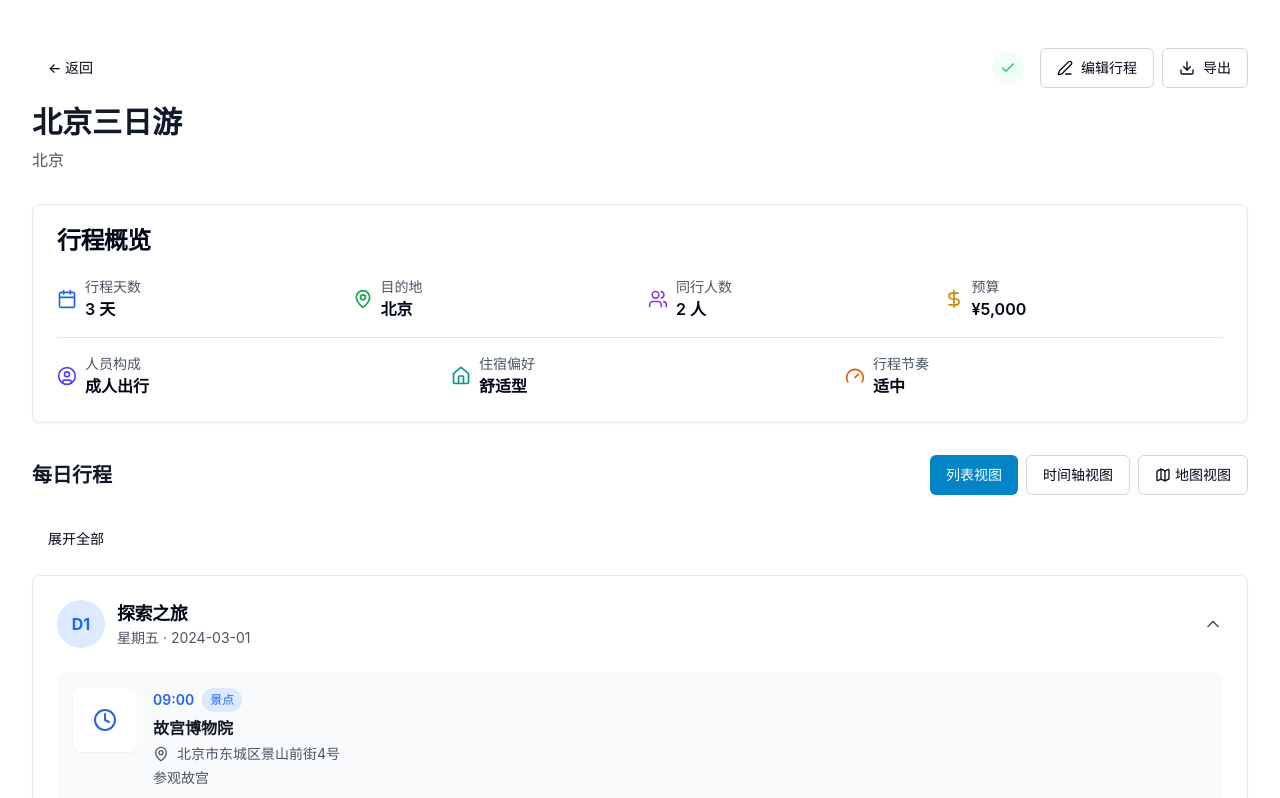
Test: ItineraryDetail 集成测试 › 端到端流程测试 › 应该正确显示行程项
Expected: the heading "探索之旅" is shown, [117,603,187,624]
Step 1. Click the text "探索之旅" → (81, 624), box [57,600,1223,648]
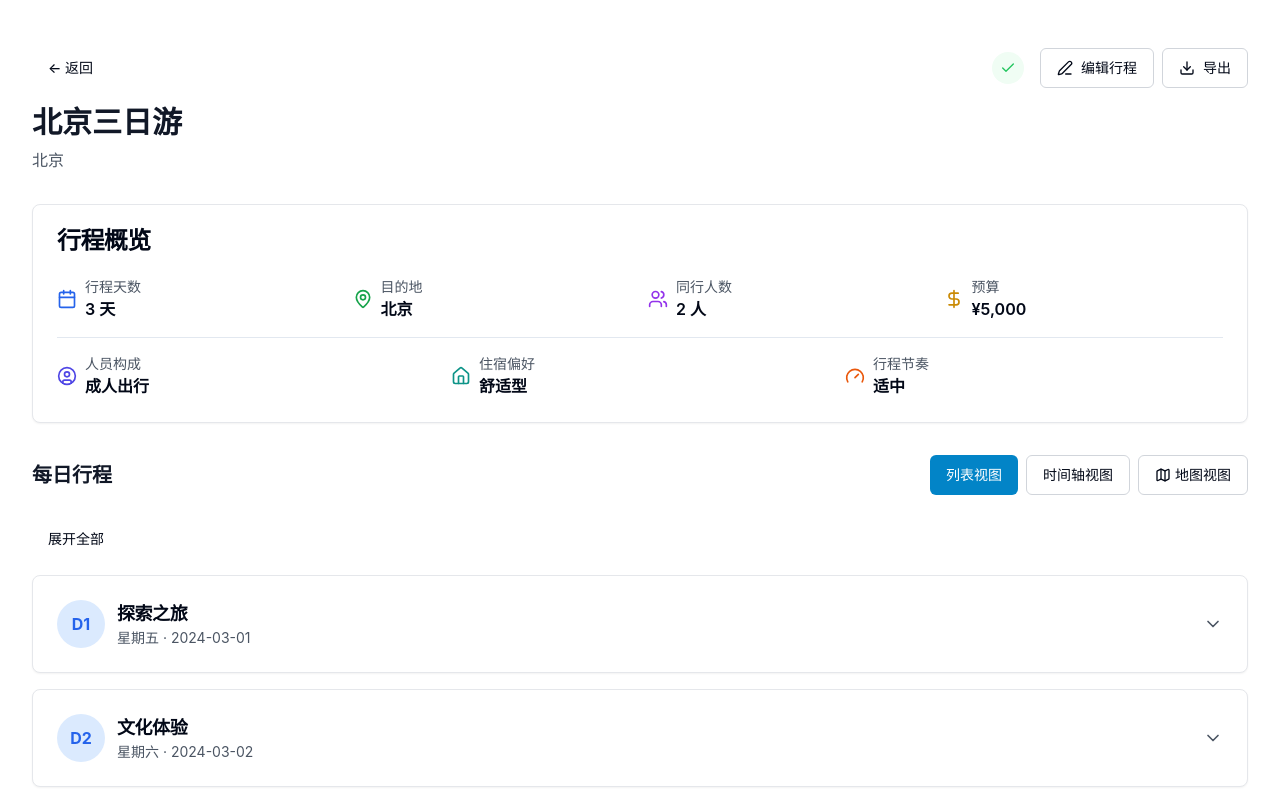
Now the heading "故宫博物院" is gone
